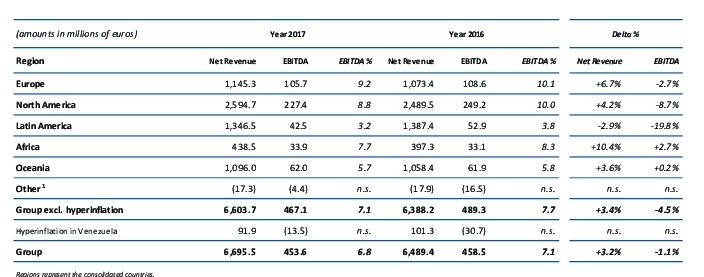table: (0, 0, 704, 277)
